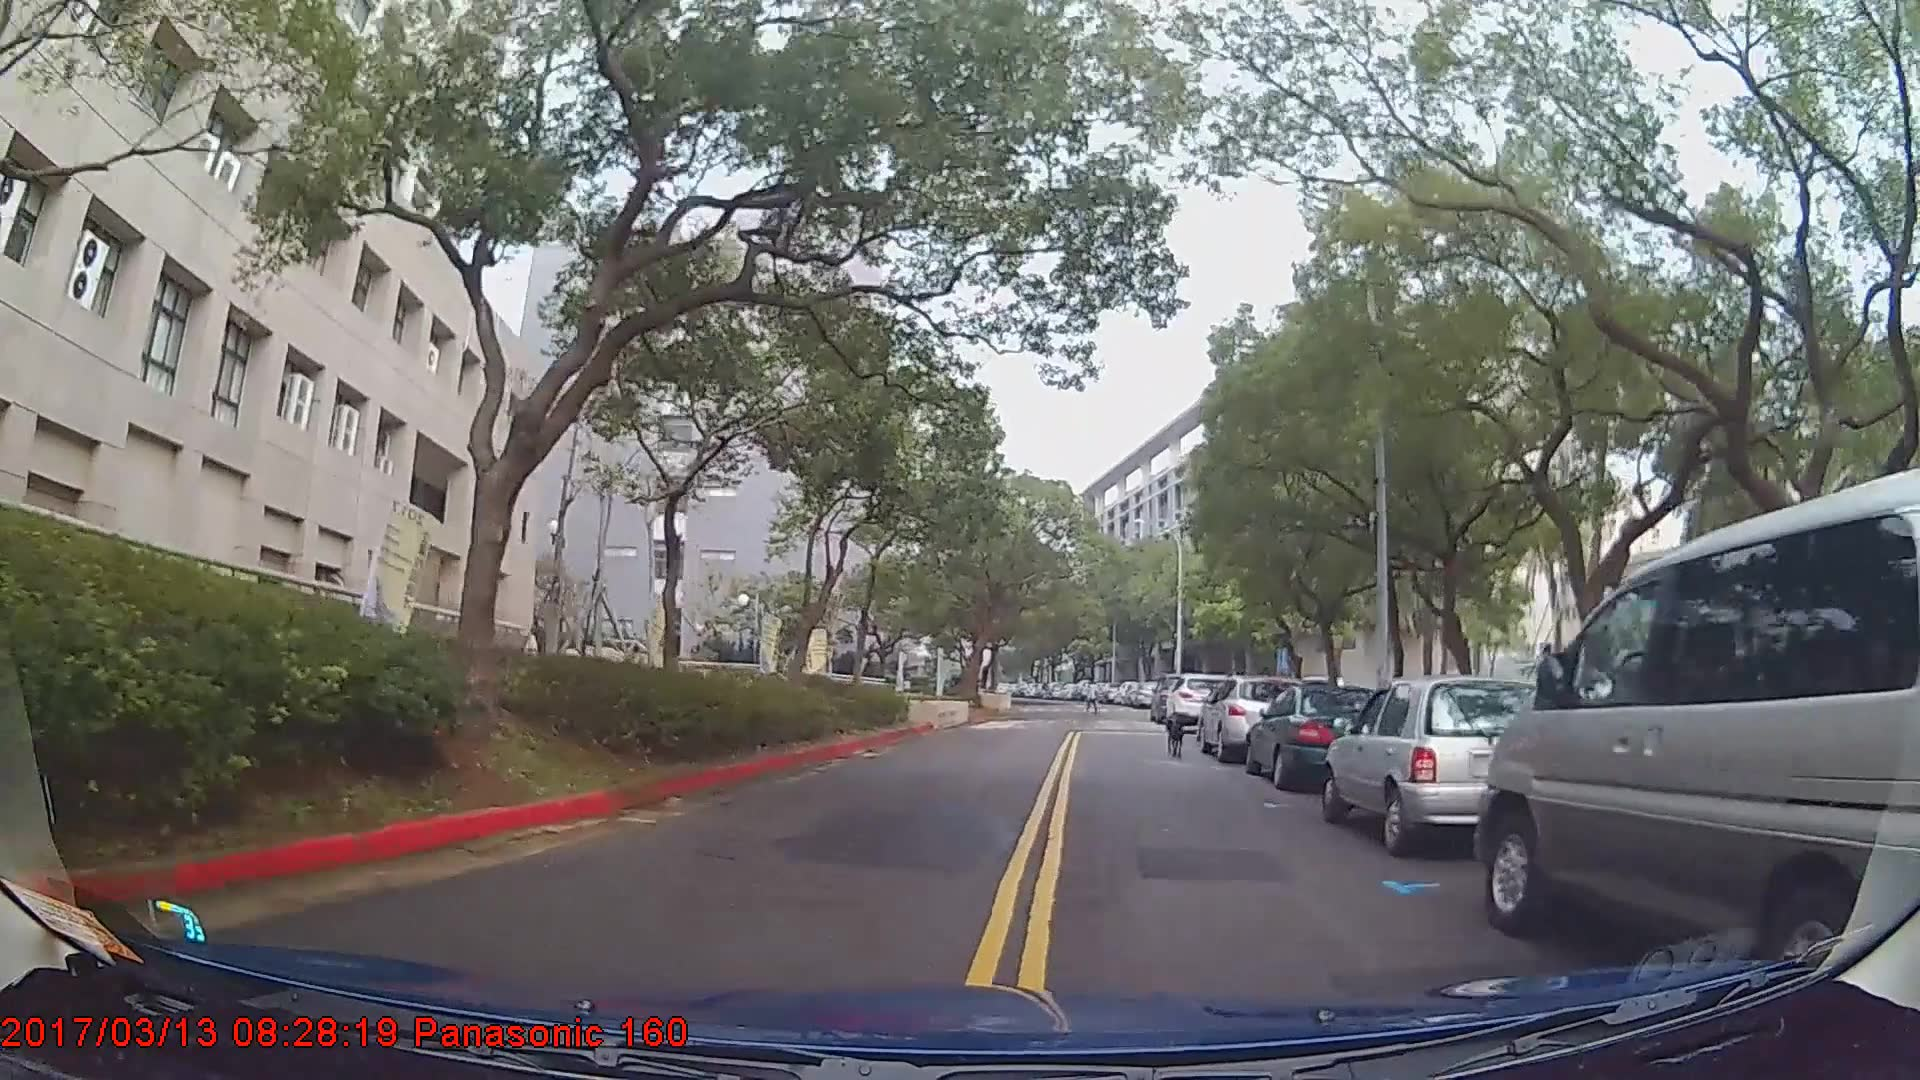vehicle: (1468, 467, 1920, 971), (1321, 675, 1567, 853), (1244, 682, 1396, 793), (1197, 675, 1298, 760), (1164, 673, 1233, 731)
